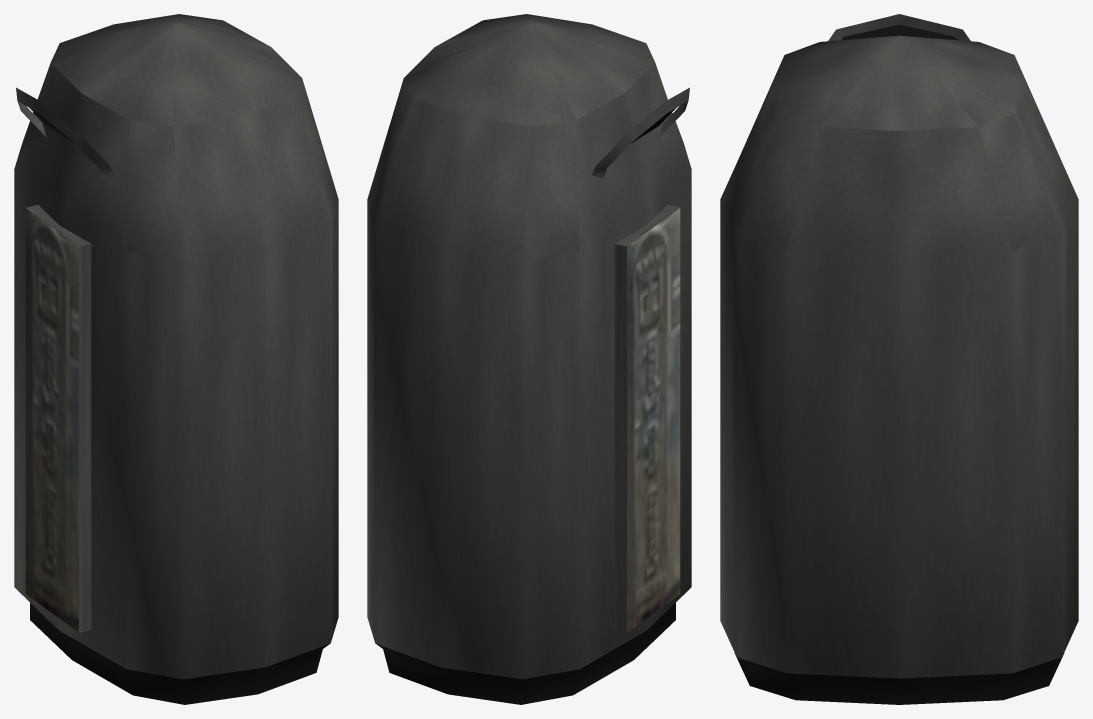
The model's file is SM_Morin_Cestino_v2_LOD2.fbx.
3 renders of one model, left to right at view 1: azimuth 30°, elevation 25°; view 2: azimuth 150°, elevation 25°; view 3: azimuth 270°, elevation 25°, orthographic.
Visible parts, largest first — view 1: SM_Morin_Cestino_v2_LOD2; view 2: SM_Morin_Cestino_v2_LOD2; view 3: SM_Morin_Cestino_v2_LOD2.
Boxes of the visible parts, x1,y1,x2,y2 form: SM_Morin_Cestino_v2_LOD2: (14,14,338,704); SM_Morin_Cestino_v2_LOD2: (367,14,691,704); SM_Morin_Cestino_v2_LOD2: (720,14,1078,704).
Size of the model in its own units: 41.39 by 50 by 95.
Materials: 1 (1 with a texture image).
